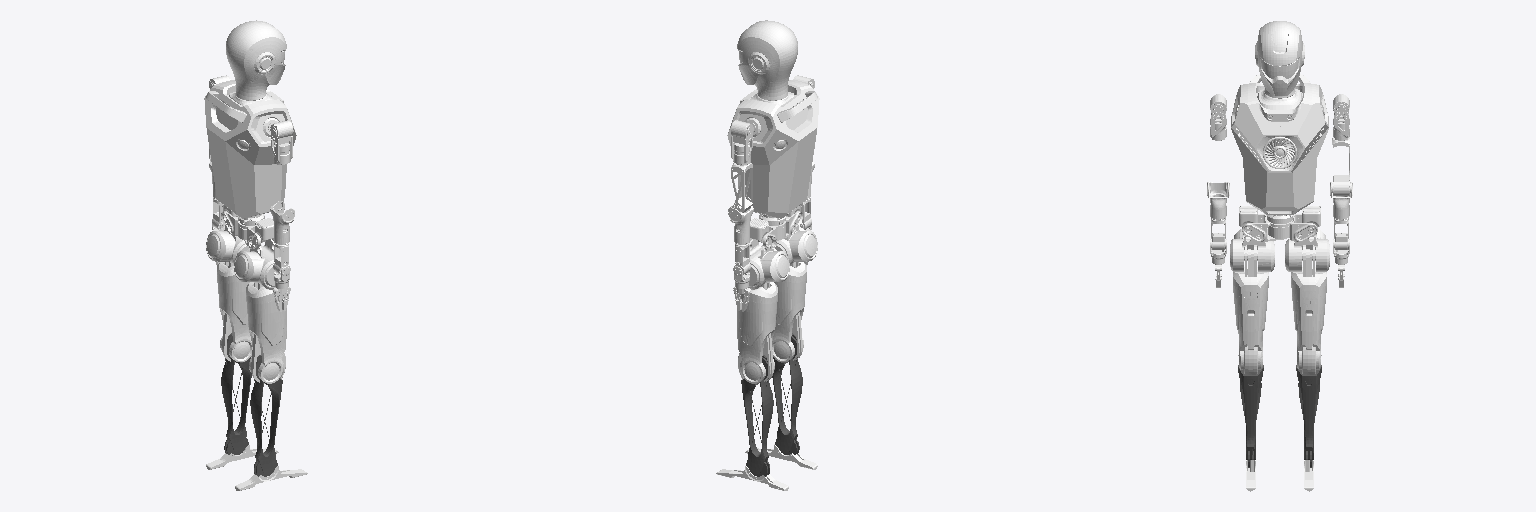
--- Render facts (derived) ---
The picture shows the robot from 3 angles, left to right: view 1: azimuth 30°, elevation 25°; view 2: azimuth 150°, elevation 25°; view 3: azimuth 270°, elevation 25°; orthographic projection.
Robot: X02lite_V2 — 26 links, 25 joints (12 revolute, 13 fixed); root link world; default pose: all joints at 0.
Visible links, largest first — view 1: base_link, R_hip_pitch_Link, L_hip_pitch_Link, R_knee_Link, L_knee_Link, R_hip_roll_Link, L_hip_roll_Link, R_shoulder2_Link, R_elbow_Link, Hip_yaw_Link, R_Wrist_Link, R_ankle_pitch_Link (+1 smaller); view 2: base_link, L_hip_pitch_Link, R_hip_pitch_Link, L_knee_Link, R_knee_Link, L_hip_roll_Link, R_hip_roll_Link, L_shoulder2_Link, Waist_yaw_Link, L_shoulder3_Link, L_elbow_Link, L_Wrist_Link (+1 smaller); view 3: base_link, L_hip_pitch_Link, R_hip_pitch_Link, R_knee_Link, L_knee_Link, Waist_yaw_Link, R_hip_roll_Link, L_hip_roll_Link, Hip_yaw_Link, R_shoulder2_Link, L_shoulder2_Link, R_elbow_Link (+1 smaller).
Boxes of the visible links, x1,y1,x2,y2 form: base_link: (204, 20, 296, 218); R_hip_pitch_Link: (246, 282, 286, 383); L_hip_pitch_Link: (217, 262, 252, 362); R_knee_Link: (250, 355, 282, 476); L_knee_Link: (221, 333, 251, 454); R_hip_roll_Link: (234, 239, 279, 289); L_hip_roll_Link: (206, 226, 248, 264); R_shoulder2_Link: (270, 120, 293, 164); R_elbow_Link: (270, 201, 294, 244); Hip_yaw_Link: (238, 218, 273, 248); R_Wrist_Link: (273, 266, 290, 311); R_ankle_pitch_Link: (235, 466, 307, 490); base_link: (727, 20, 819, 218); L_hip_pitch_Link: (737, 282, 777, 383); R_hip_pitch_Link: (772, 262, 806, 361); L_knee_Link: (741, 355, 773, 476); R_knee_Link: (772, 333, 802, 454); L_hip_roll_Link: (744, 239, 789, 289); R_hip_roll_Link: (775, 226, 817, 264); L_shoulder2_Link: (731, 120, 753, 164); Waist_yaw_Link: (750, 216, 785, 248); L_shoulder3_Link: (728, 163, 752, 214); L_elbow_Link: (729, 206, 753, 244); L_Wrist_Link: (733, 266, 750, 311); base_link: (1231, 21, 1328, 214); L_hip_pitch_Link: (1291, 245, 1326, 374); R_hip_pitch_Link: (1233, 245, 1268, 374); R_knee_Link: (1238, 365, 1263, 467); L_knee_Link: (1296, 365, 1321, 467); Waist_yaw_Link: (1267, 206, 1320, 241); R_hip_roll_Link: (1230, 227, 1274, 271); L_hip_roll_Link: (1285, 229, 1329, 271); Hip_yaw_Link: (1239, 206, 1292, 241); R_shoulder2_Link: (1210, 94, 1226, 140); L_shoulder2_Link: (1333, 94, 1349, 140); R_elbow_Link: (1207, 182, 1229, 220).
Size in the robot's own frame: 0.275 by 0.46 by 1.58 metres.
22 mesh visuals loaded from 25 distinct referenced files (22 binary STL); not drawn: 3 (reference not matched to a file when rendering).

The robot description file, URDF, robot "X02lite_V2":
<?xml version="1.0" encoding="utf-8"?>
<!-- This URDF was automatically created by SolidWorks to URDF Exporter! Originally created by Stephen Brawner ([email redacted]) 
     Commit Version: 1.6.0-4-g7f85cfe  Build Version: 1.6.7995.38578
     For more information, please see http://wiki.ros.org/sw_urdf_exporter -->
<robot
  name="X02lite_V2">
    <mujoco>
    <compiler meshdir="./meshes/"
    balanceinertia="true" 
    discardvisual="false"/>
  </mujoco>
  <link name="world"/>
  
  <link name="base_link">
    <inertial>
      <origin xyz="0.0008674575897686 0 0.250419497979326" rpy="0 0 0" />
      <mass value="21.3514144899787" />
      <inertia ixx="0.282444619501068" ixy="0" ixz="0.00213471129861179" iyy="0.262036603307758" iyz="0" izz="0.149366700090688" />
    </inertial>
    <visual>
      <origin xyz="0 0 0" rpy="0 0 0" />
      <geometry>
        <mesh filename="package://X02lite_V2/meshes/base_link.STL" />
      </geometry>
      <material name="base_link"><color rgba="1 1 1 1" /></material>
    </visual>
    <collision>
      <origin xyz="0 0 0" rpy="0 0 0" />
      <geometry>
        <mesh filename="package://X02lite_V2/meshes/base_link.STL" />
      </geometry>
    </collision>
  </link>

  <link name="body_base_Link">
    <inertial>
      <origin xyz="-0.0046747671577497 8.99463909891347E-05 -0.0217060492221594" rpy="0 0 0" />
      <mass value="0.205451153128856" />
      <inertia ixx="0.000106911111090962" ixy="5.1624641273514E-07" ixz="-8.40762169188954E-07" iyy="0.000105773001038032" iyz="5.37936762652082E-08" izz="0.000193745258135332" />
    </inertial>
    <visual>
      <origin xyz="0 0 0" rpy="0 0 0" />
      <geometry>
        <mesh filename="package://X02lite_V2/meshes/body_base_Link.STL" />
      </geometry>
      <material  name="body_base_Link">  <color    rgba="1 1 1 1" /></material>
    </visual>
    <collision>
      <origin xyz="0 0 0" rpy="0 0 0" />
      <geometry>
        <mesh filename="package://X02lite_V2/meshes/body_base_Link.STL" />
      </geometry>
    </collision>
  </link>

  <link name="R_shoulder1_Link">
    <inertial>
      <origin xyz="0 0 0.0287043762148813" rpy="0 0 0" />
      <mass value="0.0435712161313586" />
      <inertia ixx="5.06896648640316E-05" ixy="3.33908667329795E-10" ixz="-1.95143506439375E-08" iyy="2.27856271711796E-05" iyz="-3.03289845858733E-10" izz="3.79416497558822E-05" />
    </inertial>
    <visual>
      <origin xyz="0 0 0" rpy="0 0 0" />
      <geometry>
        <mesh filename="package://X02lite_V2/meshes/R_shoulder1_Link.STL" />
      </geometry>
      <material name="R_shoulder1_Link"><color rgba="1 1 1 1" /></material>
    </visual>
    <collision>
      <origin xyz="0 0 0" rpy="0 0 0" />
      <geometry>
        <mesh filename="package://X02lite_V2/meshes/R_shoulder1_Link.STL" />
      </geometry>
    </collision>
  </link>

  <link
    name="R_shoulder2_Link">
    <inertial>
      <origin xyz="0.0425361495102532 -0.000213321029730179 0.000149625674714455" rpy="0 0 0" />
      <mass value="0.299552350367621" />
      <inertia ixx="0.000108219974611033" ixy="9.83040788916784E-07" ixz="2.77443644909471E-07" iyy="0.000158228179178913" iyz="-8.51540808049238E-12" izz="0.000152295540580868" />
    </inertial>
    <visual>
      <origin xyz="0 0 0" rpy="0 0 0" />
      <geometry>
        <mesh filename="package://X02lite_V2/meshes/R_shoulder2_Link.STL" />
      </geometry>
      <material name="R_shoulder2_Link"> <color rgba="1 1 1 1" /></material>
    </visual>
    <collision>
      <origin xyz="0 0 0" rpy="0 0 0" />
      <geometry>
        <mesh filename="package://X02lite_V2/meshes/R_shoulder2_Link.STL" />
      </geometry>
    </collision>
  </link>

  <link name="R_shoulder3_Link">
    <inertial>
      <origin xyz="-0.000241424269363716 0.0049554533245248 0.142337969976296" rpy="0 0 0" />
      <mass value="0.185734247619053" />
      <inertia ixx="0.000119826974001989" ixy="1.3768269983907E-07" ixz="2.4071457735654E-07" iyy="0.000124254435864548" iyz="-4.62527220790508E-06" izz="8.03969024015147E-05" />
    </inertial>
    <visual>
      <origin xyz="0 0 0" rpy="0 0 0" />
      <geometry>
        <mesh filename="package://X02lite_V2/meshes/R_shoulder3_Link.STL" />
      </geometry>
      <material name="R_shoulder3_Link"><color rgba="1 1 1 1" /></material>
    </visual>
    <collision>
      <origin xyz="0 0 0" rpy="0 0 0" />
      <geometry>
        <mesh filename="package://X02lite_V2/meshes/R_shoulder3_Link.STL" />
      </geometry>
    </collision>
  </link>
  
  <link name="R_elbow_Link">
    <inertial>
      <origin xyz="0.01144 0.064537 7.0753E-08" rpy="0 0 0" />
      <mass value="0.37" />
      <inertia ixx="0.00014609" ixy="5.8793E-06" ixz="-6.8464E-10" iyy="7.0637E-05" iyz="6.4928E-10" izz="0.0001324" />
    </inertial>
    <visual>
      <origin xyz="0 0 0" rpy="0 0 0" />
      <geometry>
        <mesh filename="package://X02lite_V2/meshes/R_elbow_Link.STL" />
      </geometry>
      <material name="R_elbow_Link"><color rgba="1 1 1 1" /></material>
    </visual>
    <collision>
      <origin xyz="0 0 0" rpy="0 0 0" />
      <geometry>
        <mesh filename="package://X02lite_V2/meshes/R_elbow_Link.STL" />
      </geometry>
    </collision>
  </link>
  
  <link name="R_Forearm_Link">
    <inertial>
      <origin xyz="1.4162E-05 4.3666E-05 -0.073771" rpy="0 0 0" />
      <mass value="0.25" />
      <inertia ixx="2.8151E-05" ixy="6.5546E-10" ixz="1.005E-08" iyy="3.5712E-05" iyz="-9.3269E-08" izz="2.4309E-05" />
    </inertial>
    <visual>
      <origin xyz="0 0 0" rpy="0 0 0" />
      <geometry>
        <mesh filename="package://X02lite_V2/meshes/R_Forearm_Link.STL" />
      </geometry>
      <material name="R_Forearm_Link"><color rgba="1 1 1 1" /></material>
    </visual>
    <collision>
      <origin xyz="0 0 0" rpy="0 0 0" />
      <geometry>
        <mesh filename="package://X02lite_V2/meshes/R_Forearm_Link.STL" />
      </geometry>
    </collision>
  </link>
  
  <link name="R_Wrist_Link">
    <inertial>
      <origin xyz="-2.4109E-09 -0.065491 0.00014034" rpy="0 0 0" />
      <mass value="0.31" />
      <inertia ixx="2.0045E-05" ixy="-7.253E-12" ixz="-1.801E-11" iyy="1.7875E-05" iyz="2.4149E-08" izz="1.7196E-05" />
    </inertial>
    <visual>
      <origin xyz="0 0 0" rpy="0 0 0" />
      <geometry>
        <mesh filename="package://X02lite_V2/meshes/R_Wrist_Link.STL" />
      </geometry>
      <material name="R_Wrist_Link"> <color rgba="1 1 1 1" /></material>
    </visual>
    <collision>
      <origin xyz="0 0 0" rpy="0 0 0" />
      <geometry>
        <mesh filename="package://X02lite_V2/meshes/R_Wrist_Link.STL" />
      </geometry>
    </collision>
  </link>
  
  <link  name="L_shoulder1_Link">
    <inertial>
      <origin xyz="6.45266596186467E-05 -9.70784197692288E-07 0.0287043764379032"  rpy="0 0 0" />
      <mass  value="0.0435712151997001" />
      <inertia ixx="5.06896647149337E-05" ixy="3.33940566193011E-10" ixz="-1.95140389915468E-08" iyy="2.27856270145984E-05" iyz="-3.03072768689328E-10" izz="3.79416496825137E-05" />
    </inertial>
    <visual>
      <origin xyz="0 0 0" rpy="0 0 0" />
      <geometry>
        <mesh filename="package://X02lite_V2/meshes/L_shoulder1_Link.STL" />
      </geometry>
      <material name="L_shoulder1_Link"> <color rgba="1 1 1 1" /></material>
    </visual>
    <collision>
      <origin xyz="0 0 0" rpy="0 0 0" />
      <geometry>
        <mesh filename="package://X02lite_V2/meshes/L_shoulder1_Link.STL" />
      </geometry>
    </collision>
  </link>
  
  <link name="L_shoulder2_Link">
    <inertial>
      <origin xyz="0.0425361492037823 -0.000213321097255137 0.000149625608066882" rpy="0 0 0" />
      <mass value="0.29955234889539" />
      <inertia ixx="0.000108219974391823" ixy="9.83041284835192E-07" ixz="2.77443664833048E-07" iyy="0.000158228177955827" iyz="-8.50082398897971E-12" izz="0.000152295539117999" />
    </inertial>
    <visual>
      <origin xyz="0 0 0" rpy="0 0 0" />
      <geometry>
        <mesh filename="package://X02lite_V2/meshes/L_shoulder2_Link.STL" />
      </geometry>
      <material name="L_shoulder2_Link"> <color rgba="1 1 1 1" /> </material>
    </visual>
    <collision>
      <origin xyz="0 0 0" rpy="0 0 0" />
      <geometry>
        <mesh filename="package://X02lite_V2/meshes/L_shoulder2_Link.STL" />
      </geometry>
    </collision>
  </link>
  
  <link name="L_shoulder3_Link">
    <inertial>
      <origin xyz="0.000241424269300045 -0.0049554533253001 0.142337969976294" rpy="0 0 0" />
      <mass value="0.185734247619053" />
      <inertia ixx="0.000119826974001989" ixy="1.37682699839042E-07" ixz="-2.40714577356529E-07" iyy="0.000124254435864549" iyz="4.62527220790505E-06" izz="8.03969024015147E-05" />
    </inertial>
    <visual>
      <origin xyz="0 0 0" rpy="0 0 0" />
      <geometry>
        <mesh filename="package://X02lite_V2/meshes/L_shoulder3_Link.STL" />
      </geometry>
      <material name="L_shoulder3_Link"><color rgba="1 1 1 1" /> </material>
    </visual>
    <collision>
      <origin xyz="0 0 0" rpy="0 0 0" />
      <geometry>
        <mesh filename="package://X02lite_V2/meshes/L_shoulder3_Link.STL" />
      </geometry>
    </collision>
  </link>
  
  <link name="L_elbow_Link">
    <inertial>
      <origin xyz="0.01144 -0.064537 -7.014E-08" rpy="0 0 0" />
      <mass value="0.37" />
      <inertia ixx="0.00014609" ixy="-5.8793E-06" ixz="6.8511E-10" iyy="7.0637E-05" iyz="6.4767E-10" izz="0.0001324" />
    </inertial>
    <visual>
      <origin xyz="0 0 0" rpy="0 0 0" />
      <geometry>
        <mesh filename="package://X02lite_V2/meshes/L_elbow_Link.STL" />
      </geometry>
      <material name="L_elbow_Link"> <color   rgba="1 1 1 1" /></material>
    </visual>
    <collision>
      <origin xyz="0 0 0" rpy="0 0 0" />
      <geometry>
        <mesh filename="package://X02lite_V2/meshes/L_elbow_Link.STL" />
      </geometry>
    </collision>
  </link>
  
  <link name="L_Foerarm_Link">
    <inertial>
      <origin xyz="-1.4162E-05 4.3666E-05 0.073771" rpy="0 0 0" />
      <mass value="0.25" />
      <inertia ixx="2.8151E-05" ixy="-6.5546E-10" ixz="1.005E-08" iyy="3.5712E-05" iyz="9.3269E-08" izz="2.4309E-05" />
    </inertial>
    <visual>
      <origin xyz="0 0 0" rpy="0 0 0" />
      <geometry>
        <mesh filename="package://X02lite_V2/meshes/L_Foerarm_Link.STL" />
      </geometry>
      <material  name="L_Foerarm_Link">  <color    rgba="1 1 1 1" /></material>
    </visual>
    <collision>
      <origin xyz="0 0 0" rpy="0 0 0" />
      <geometry>
        <mesh filename="package://X02lite_V2/meshes/L_Foerarm_Link.STL" />
      </geometry>
    </collision>
  </link>
  
  <link name="L_Wrist_Link">
    <inertial>
      <origin xyz="2.4109E-09 0.065491 0.00014034" rpy="0 0 0" />
      <mass value="0.31" />
      <inertia ixx="2.0045E-05" ixy="-7.253E-12" ixz="1.801E-11" iyy="1.7875E-05" iyz="-2.4149E-08" izz="1.7196E-05" />
    </inertial>
    <visual>
      <origin xyz="0 0 0" rpy="0 0 0" />
      <geometry>
        <mesh filename="package://X02lite_V2/meshes/L_Wrist_Link.STL" />
      </geometry>
      <material  name="L_Wrist_Link">  <color    rgba="1 1 1 1" /></material>
    </visual>
    <collision>
      <origin xyz="0 0 0" rpy="0 0 0" />
      <geometry>
        <mesh filename="package://X02lite_V2/meshes/L_Wrist_Link.STL" />
      </geometry>
    </collision>
  </link>
 
  <link name="Waist_yaw_Link">
    <inertial>
      <origin xyz="-0.000140267105797828 0.0414480002379952 -0.03093421085924" rpy="0 0 0" />
      <mass value="0.318144598508264" />
      <inertia ixx="0.000357125507762938" ixy="3.81597023427251E-06" ixz="-8.45858696438045E-07" iyy="0.000249729551759796" iyz="-2.65504330930263E-06" izz="0.000522724287521454" />
    </inertial>
    <visual>
      <origin xyz="0 0 0" rpy="0 0 0" />
      <geometry>
        <mesh filename="package://X02lite_V2/meshes/Waist_yaw_Link.STL" />
      </geometry>
      <material  name="Waist_yaw_Link">  <color    rgba="1 1 1 1" /></material>
    </visual>
    <collision>
      <origin xyz="0 0 0" rpy="0 0 0" />
      <geometry>
        <mesh filename="package://X02lite_V2/meshes/Waist_yaw_Link.STL" />
      </geometry>
    </collision>
  </link>
  
  <link name="Hip_yaw_Link">
    <inertial>
      <origin xyz="-0.000928215614239746 -0.0682427302727476 0.024487499975027" rpy="0 0 0" />
      <mass value="0.18785385223236" />
      <inertia ixx="0.000208636843876628" ixy="-2.42371417127441E-06" ixz="-1.12824249401697E-07" iyy="0.000171453578760383" iyz="1.21512671470542E-05" izz="0.000278326781346091" />
    </inertial>
    <visual>
      <origin xyz="0 0 0" rpy="0 0 0" />
      <geometry>
        <mesh filename="package://X02lite_V2/meshes/Hip_yaw_Link.STL" />
      </geometry>
      <material  name="Hip_yaw_Link">  <color    rgba="1 1 1 1" /></material>
    </visual>
    <collision>
      <origin xyz="0 0 0" rpy="0 0 0" />
      <geometry>
        <mesh filename="package://X02lite_V2/meshes/Hip_yaw_Link.STL" />
      </geometry>
    </collision>
  </link>
  
  <link name="R_hip_roll_Link">
    <inertial>
      <origin xyz="0.0780900815459438 -0.0209083661647285 -0.0206782397690989" rpy="0 0 0" />
      <mass value="1.22153151509574" />
      <inertia ixx="0.00393397889958795" ixy="4.14719046908357E-06" ixz="-0.000221904577531877" iyy="0.00276904728501348" iyz="-5.20699536076736E-05" izz="0.00309258828530874" />
    </inertial>
    <visual>
      <origin xyz="0 0 0" rpy="0 0 0" />
      <geometry>
        <mesh filename="package://X02lite_V2/meshes/R_hip_roll_Link.STL" />
      </geometry>
      <material  name="R_hip_roll_Link">  <color    rgba="1 1 1 1" /></material>
    </visual>
    <collision>
      <origin xyz="0 0 0" rpy="0 0 0" />
      <geometry>
        <mesh filename="package://X02lite_V2/meshes/R_hip_roll_Link.STL" />
      </geometry>
    </collision>
  </link>
  
  <link name="R_hip_pitch_Link">
    <inertial>
      <origin xyz="0.178192567334376 -0.00727638303498681 -3.63977259008746E-05" rpy="0 0 0" />
      <mass value="2.63766388953408" />
      <inertia ixx="0.00439363692835025" ixy="0.001427906819881" ixz="9.58770880475424E-07" iyy="0.0254748461918853" iyz="2.21138158226588E-06" izz="0.0261402586874213" />
    </inertial>
    <visual>
      <origin xyz="0 0 0" rpy="0 0 0" />
      <geometry>
        <mesh filename="package://X02lite_V2/meshes/R_hip_pitch_Link.STL" />
      </geometry>
      <material  name="R_hip_pitch_Link">  <color    rgba="1 1 1 1" /></material>
    </visual>
    <collision>
      <origin xyz="0 0 0" rpy="0 0 0" />
      <geometry>
        <mesh filename="package://X02lite_V2/meshes/R_hip_pitch_Link.STL" />
      </geometry>
    </collision>
  </link>
  
  <link name="R_knee_Link">
    <inertial>
      <origin xyz="0.147464363261662 -0.00556982737753628 -4.16284684445767E-07" rpy="0 0 0" />
      <mass value="0.49064454308433" />
      <inertia ixx="0.000417378114180361" ixy="-0.000255382978182787" ixz="-7.12240872020779E-09" iyy="0.0085794792637525" iyz="-1.1031453888089E-10" izz="0.00881240368564623" />
    </inertial>
    <visual>
      <origin xyz="0 0 0" rpy="0 0 0" />
      <geometry>
        <mesh filename="package://X02lite_V2/meshes/R_knee_Link.STL" />
      </geometry>
      <material  name="R_knee_Link">  <color    rgba="0.419607843137255 0.419607843137255 0.419607843137255 1" /></material>
    </visual>
    <collision>
      <origin xyz="0 0 0" rpy="0 0 0" />
      <geometry>
        <mesh filename="package://X02lite_V2/meshes/R_knee_Link.STL" />
      </geometry>
    </collision>
  </link>
  
  <link name="R_ankle_pitch_Link">
    <inertial>
      <origin xyz="-0.90462 -0.016955 0.092506" rpy="0 0 0" />
      <mass value="0.162" />
      <inertia ixx="0.48365" ixy="-0.14879" ixz="0.0059774" iyy="3.7068" iyz="4.1161E-05" izz="3.4106" />
    </inertial>
    <visual>
      <origin xyz="0 0 0" rpy="0 0 0" />
      <geometry>
        <mesh filename="package://X02lite_V2/meshes/R_ankle_pitch_Link.STL" />
      </geometry>
      <material  name="R_ankle_pitch_Link">  <color    rgba="1 1 1 1" /></material>
    </visual>
    <collision>
      <origin xyz="0 0 0" rpy="0 0 0" />
      <geometry>
        <mesh filename="package://X02lite_V2/meshes/R_ankle_pitch_Link.STL" />
      </geometry>
    </collision>
  </link>
  
  <link name="L_hip_roll_Link">
    <inertial>
      <origin xyz="0.0780905009315149 -0.0209084401366757 0.0206782855027555" rpy="0 0 0" />
      <mass value="1.22153829002005" />
      <inertia ixx="0.00393397340787852" ixy="4.15176728813008E-06" ixz="0.000221902196691747" iyy="0.00276905431059663" iyz="5.20767667853864E-05" izz="0.00309258806340331" />
    </inertial>
    <visual>
      <origin xyz="0 0 0" rpy="0 0 0" />
      <geometry>
        <mesh filename="package://X02lite_V2/meshes/L_hip_roll_Link.STL" />
      </geometry>
      <material  name="L_hip_roll_Link">  <color    rgba="1 1 1 1" /></material>
    </visual>
    <collision>
      <origin xyz="0 0 0" rpy="0 0 0" />
      <geometry>
        <mesh filename="package://X02lite_V2/meshes/L_hip_roll_Link.STL" />
      </geometry>
    </collision>
  </link>
  
  <link name="L_hip_pitch_Link">
    <inertial>
      <origin xyz="0.17819256757652 0.00727637219495111 3.63977700606477E-05" rpy="0 0 0" />
      <mass value="2.63766389722935" />
      <inertia ixx="0.00439363693405508" ixy="-0.0014279068107422" ixz="-9.58781110717929E-07" iyy="0.0254748462502192" iyz="2.21138325619072E-06" izz="0.0261402587477004" />
    </inertial>
    <visual>
      <origin xyz="0 0 0" rpy="0 0 0" />
      <geometry>
        <mesh filename="package://X02lite_V2/meshes/L_hip_pitch_Link.STL" />
      </geometry>
      <material  name="L_hip_pitch_Link">  <color    rgba="1 1 1 1" /></material>
    </visual>
    <collision>
      <origin xyz="0 0 0" rpy="0 0 0" />
      <geometry>
        <mesh filename="package://X02lite_V2/meshes/L_hip_pitch_Link.STL" />
      </geometry>
    </collision>
  </link>
  
  <link name="L_knee_Link">
    <inertial>
      <origin xyz="0.14746436326166 0.00556981657718311 4.16284684473522E-07" rpy="0 0 0" />
      <mass value="0.490644543084329" />
      <inertia ixx="0.000417378114180361" ixy="0.000255382978182791" ixz="7.12240871901537E-09" iyy="0.00857947926375246" iyz="-1.10314539406277E-10" izz="0.00881240368564619" />
    </inertial>
    <visual>
      <origin xyz="0 0 0" rpy="0 0 0" />
      <geometry>
        <mesh filename="package://X02lite_V2/meshes/L_knee_Link.STL" />
      </geometry>
      <material  name="L_knee_Link">  <color    rgba="0.419607843137255 0.419607843137255 0.419607843137255 1" /></material>
    </visual>
    <collision>
      <origin xyz="0 0 0" rpy="0 0 0" />
      <geometry>
        <mesh filename="package://X02lite_V2/meshes/L_knee_Link.STL" />
      </geometry>
    </collision>
  </link>
  
  <link name="L_ankle_pitch_Link">
    <inertial>
      <origin xyz="0.039805 0.014247 0.0011945" rpy="0 0 0" />
      <mass value="0.162" />
      <inertia ixx="0.00025211" ixy="-1.1219E-06" ixz="1.0353E-06" iyy="1.3795E-05" iyz="6.4037E-07" izz="0.00025217" />
    </inertial>
    <visual>
      <origin xyz="0 0 0" rpy="0 0 0" />
      <geometry>
        <mesh filename="package://X02lite_V2/meshes/L_ankle_pitch_Link.STL" />
      </geometry>
      <material  name="L_ankle_pitch_Link">  <color    rgba="1 1 1 1" /></material>
    </visual>
    <collision>
      <origin xyz="0 0 0" rpy="0 0 0" />
      <geometry>
        <mesh filename="package://X02lite_V2/meshes/L_ankle_pitch_Link.STL" />
      </geometry>
    </collision>
  </link>
  
  <link name="ziti_Link">
    <inertial>
      <origin xyz="0.082950590842825 0.000315079549964601 0.226993833498479" rpy="0 0 0" />
      <mass value="0.00512067879790999" />
      <inertia ixx="1.30394213485795E-06" ixy="-3.51341664049759E-11" ixz="4.09535398301699E-07" iyy="1.05676153928886E-06" iyz="5.51444099115934E-10" izz="9.50917700863668E-07" />
    </inertial>
    <visual>
      <origin xyz="0 0 0" rpy="0 0 0" />
      <geometry>
        <mesh filename="package://X02lite_V2/meshes/ziti_Link.STL" />
      </geometry>
      <material  name="ziti_Link">  <color    rgba="1 1 1 1" /></material>
    </visual>
    <collision>
      <origin xyz="0 0 0" rpy="0 0 0" />
      <geometry>
        <mesh filename="package://X02lite_V2/meshes/ziti_Link.STL" />
      </geometry>
    </collision>
  </link>
  
  <joint name="world_fixed" type="fixed">
    <origin xyz= "0.0 0.0 0.95" rpy="0 0 0"/>
    <parent link="world"/>
    <child link="body_base_Link"/>
  </joint>
  <joint name="body_base" type="fixed">
    <origin xyz="0 0 0" rpy="0 0 0" />
    <parent link="body_base_Link" />
    <child link="base_link" />
    <axis xyz="0 0 -1" />
    <!-- <limit lower="-3.1415" upper="3.1415" effort="0" velocity="0" /> -->
  </joint>
  <joint name="R_shoulder1" type="revolute">
    <origin xyz="0 -0.136078524596347 0.308562038248785" rpy="0 1.30899693899578 -1.5707963267949" />
    <parent link="base_link" />
    <child link="R_shoulder1_Link" />
    <axis xyz="0 0 1" />
    <limit lower="-3.1415" upper="3.1415" effort="0" velocity="0" />
  </joint>
  <joint name="R_shoulder2" type="revolute">
    <origin xyz="0 0 0.060999999999996" rpy="-1.5707963267949 0.261799387799122 0" />
    <parent link="R_shoulder1_Link" />
    <child link="R_shoulder2_Link" />
    <axis xyz="0 0 -1" />
    <limit lower="-3.1415" upper="3.1415" effort="0" velocity="0" />
  </joint>
  <joint name="R_shoulder3" type="revolute">
    <origin xyz="0.112 0 0" rpy="1.57079632679458 0 1.5707963267949" />
    <parent link="R_shoulder2_Link" />
    <child link="R_shoulder3_Link" />
    <axis xyz="0 0 -1" />
    <limit lower="-3.1415" upper="3.1415" effort="0" velocity="0" />
  </joint>
  <joint name="R_elbow" type="revolute">
    <origin xyz="0 0.00999999999896754 0.173000000000008" rpy="1.5707963267949 0 -1.5707963267949" />
    <parent link="R_shoulder3_Link" />
    <child link="R_elbow_Link" />
    <axis xyz="0 0 1" />
    <limit lower="-3.1415" upper="3.1415" effort="0" velocity="0" />
  </joint>
  <joint name="R_Forearm" type="revolute">
    <origin xyz="0.00999999999893191 0.109999999999992 0" rpy="1.57079632679458 1.5707963267949 0" />
    <parent link="R_elbow_Link" />
    <child link="R_Forearm_Link" />
    <axis xyz="0 0 1" />
    <limit lower="-3.1415" upper="3.1415" effort="0" velocity="0" />
  </joint>
  <joint name="R_Wrist" type="revolute">
    <origin xyz="0 0 -0.09"  rpy="1.5707963267949 0 -1.5707963267949" />
    <parent link="R_Forearm_Link" />
    <child link="R_Wrist_Link" />
    <axis xyz="0 0 -1" />
    <limit lower="-3.1415" upper="3.1415" effort="0" velocity="0" />
  </joint>
  <joint name="L_shoulder1" type="revolute">
    <origin xyz="0 0.136078524596347 0.308562038248785" rpy="0 1.30899693899577 1.5707963267949" />
    <parent link="base_link" />
    <child link="L_shoulder1_Link" />
    <axis xyz="0 0 -1" />
    <limit lower="-3.1415" upper="3.1415" effort="0" velocity="0" />
  </joint>
  <joint name="L_shoulder2" type="revolute">
    <origin xyz="0 0 0.0609999999999959" rpy="-1.5707963267949 0.261799387799122 0" />
    <parent link="L_shoulder1_Link" />
    <child link="L_shoulder2_Link" />
    <axis xyz="0 0 -1" />
    <limit lower="-3.1415" upper="3.1415" effort="0" velocity="0" />
  </joint>
  <joint name="L_shoulder3" type="revolute">
    <origin xyz="0.112000000000002 0 0" rpy="1.57079632679458 0 1.5707963267949" />
    <parent link="L_shoulder2_Link" />
    <child link="L_shoulder3_Link" />
    <axis xyz="0 0 1" />
    <limit lower="-3.1415" upper="3.1415" effort="0" velocity="0" />
  </joint>
  <joint name="L_elbow" type="revolute">
    <origin xyz="0 -0.0100000000009546 0.172999999999991" rpy="-1.5707963267949 0 1.5707963267949" />
    <parent link="L_shoulder3_Link" />
    <child link="L_elbow_Link" />
    <axis xyz="0 0 -1" />
    <limit lower="-3.1415" upper="3.1415" effort="0" velocity="0" />
  </joint>
  <joint name="L_Foerarm" type="revolute">
    <origin xyz="0.0100000000002127 -0.11 0" rpy="1.57079632679458 1.5707963267949 0" />
    <parent link="L_elbow_Link" />
    <child link="L_Foerarm_Link" />
    <axis xyz="0 0 1" />
    <limit lower="-3.1415" upper="3.1415" effort="0" velocity="0" /><limit lower="-3.1415" upper="3.1415" effort="0" velocity="0" />
  </joint>
  <joint name="L_Wrist" type="revolute">
    <origin xyz="0 0 0.09" rpy="1.5707963267949 0 -1.5707963267949" />
    <parent link="L_Foerarm_Link" />
    <child link="L_Wrist_Link" />
    <axis xyz="0 0 1" />
    <limit lower="-3.1415" upper="3.1415" effort="0" velocity="0" />
  </joint>
  <joint name="Waist_yaw" type="fixed">
    <origin xyz="0 0 -0.0582499999998705" rpy="0 0 0" />
    <parent link="body_base_Link" />
    <child link="Waist_yaw_Link" />
    <axis xyz="0 0 -1" />
  </joint>
  <joint name="Hip_yaw" type="fixed">
    <origin xyz="0 0 -0.056399999999996" rpy="0 0 0" />
    <parent link="Waist_yaw_Link" />
    <child link="Hip_yaw_Link" />
    <axis xyz="0 0 -1" />
  </joint>
  <joint name="R_hip_roll" type="fixed">
    <origin xyz="0 -0.066 0" rpy="0 1.5707963267949 0" />
    <parent link="Hip_yaw_Link" />
    <child link="R_hip_roll_Link" />
    <axis xyz="0 0 -1" />
  </joint>
  <joint name="R_hip_pitch" type="fixed">
    <origin xyz="0.0858481848152799 -0.0264865420138702 0" rpy="-1.5707963267949 0 0" />
    <parent link="R_hip_roll_Link" />
    <child link="R_hip_pitch_Link" />
    <axis xyz="0 0 -1" />
  </joint>
  <joint name="R_knee" type="fixed">
    <origin xyz="0.35 0 0" rpy="0 0 0" />
    <parent link="R_hip_pitch_Link" />
    <child link="R_knee_Link" />
    <axis xyz="0 0 -1" />
  </joint>
  <joint name="R_ankle_pitch" type="fixed">
    <origin xyz="0.35 0 0" rpy="0 0 0" />
    <parent link="R_knee_Link" />
    <child link="R_ankle_pitch_Link" />
    <axis xyz="0 0 -1" />
  </joint>
  <joint name="L_hip_roll" type="fixed">
    <origin xyz="0 0.0659999999999995 -0.056399999999996" rpy="3.14159265358979 1.5707963267949 0" />
    <parent link="Waist_yaw_Link" />
    <child link="L_hip_roll_Link" />
    <axis xyz="0 0 1" />
  </joint>
  <joint name="L_hip_pitch" type="fixed">
    <origin xyz="0.08584818481528 -0.02648654201387 0" rpy="-1.5707963267949 0 0" />
    <parent link="L_hip_roll_Link" />
    <child link="L_hip_pitch_Link" />
    <axis xyz="0 0 1" />
  </joint>
  <joint name="L_knee" type="fixed">
    <origin xyz="0.35 0 0" rpy="0 0 0" />
    <parent link="L_hip_pitch_Link" />
    <child link="L_knee_Link" />
    <axis xyz="0 0 1" />
  </joint>
  <joint name="L_ankle_pitch" type="fixed">
    <origin xyz="0.35 0 0" rpy="0 0 0" />
    <parent link="L_knee_Link" />
    <child link="L_ankle_pitch_Link" />
    <axis xyz="0 0 1" />
  </joint>
  <joint name="ziti" type="fixed">
    <origin xyz="0 0 0" rpy="0 0 0" />
    <parent link="base_link" />
    <child link="ziti_Link" />
    <axis xyz="0 0 0" />
  </joint>

</robot>
